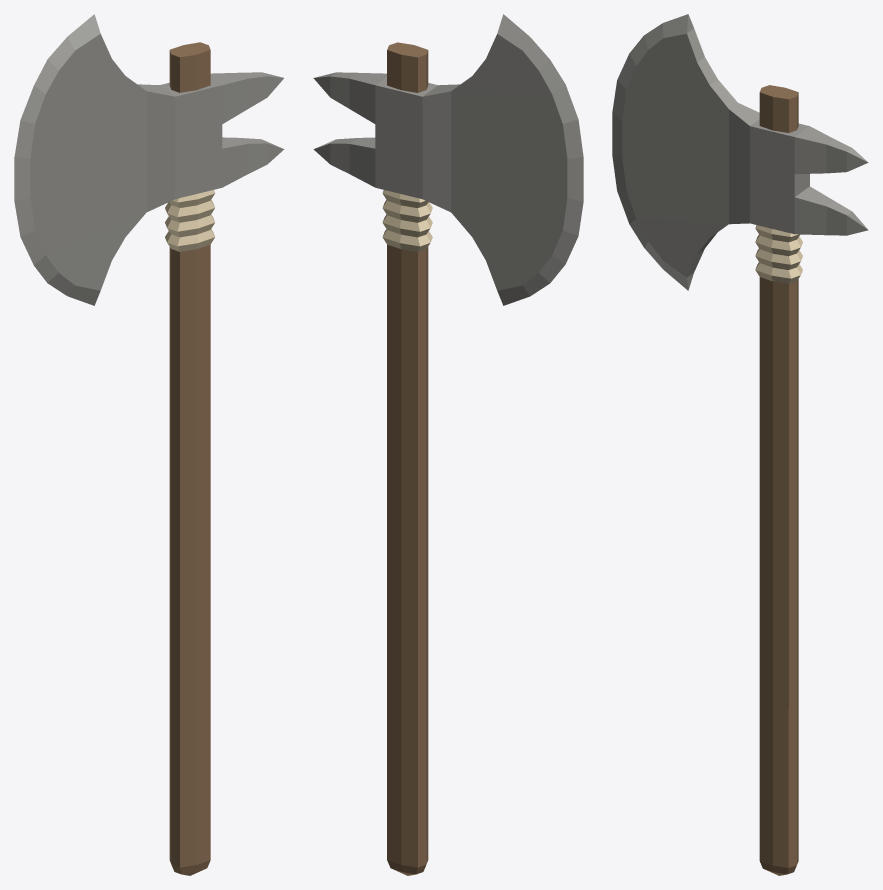
The model's file is SM_pwe_gauls_axe_01.fbx.
3 views of the same model, side by side, from view 1: azimuth 30°, elevation 25°; view 2: azimuth 150°, elevation 25°; view 3: azimuth 330°, elevation 25° (orthographic). The views are drawn at different scales.
Parts seen in each view (by area): view 1: SM_pwe_gauls_axe_01; view 2: SM_pwe_gauls_axe_01; view 3: SM_pwe_gauls_axe_01.
Boxes of the visible parts, x1,y1,x2,y2 form: SM_pwe_gauls_axe_01: (14, 14, 284, 875); SM_pwe_gauls_axe_01: (313, 14, 583, 875); SM_pwe_gauls_axe_01: (612, 14, 868, 875).
Size of the model in its own units: 34.33 by 108 by 3.54.
